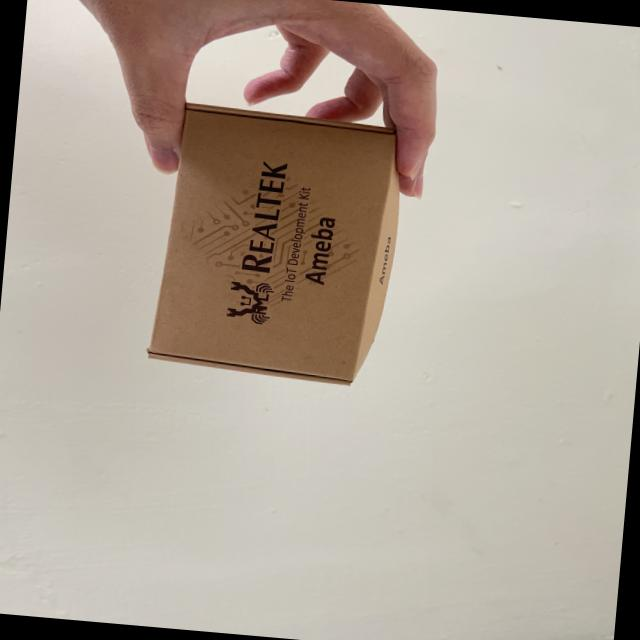box: (136, 79, 445, 407)
